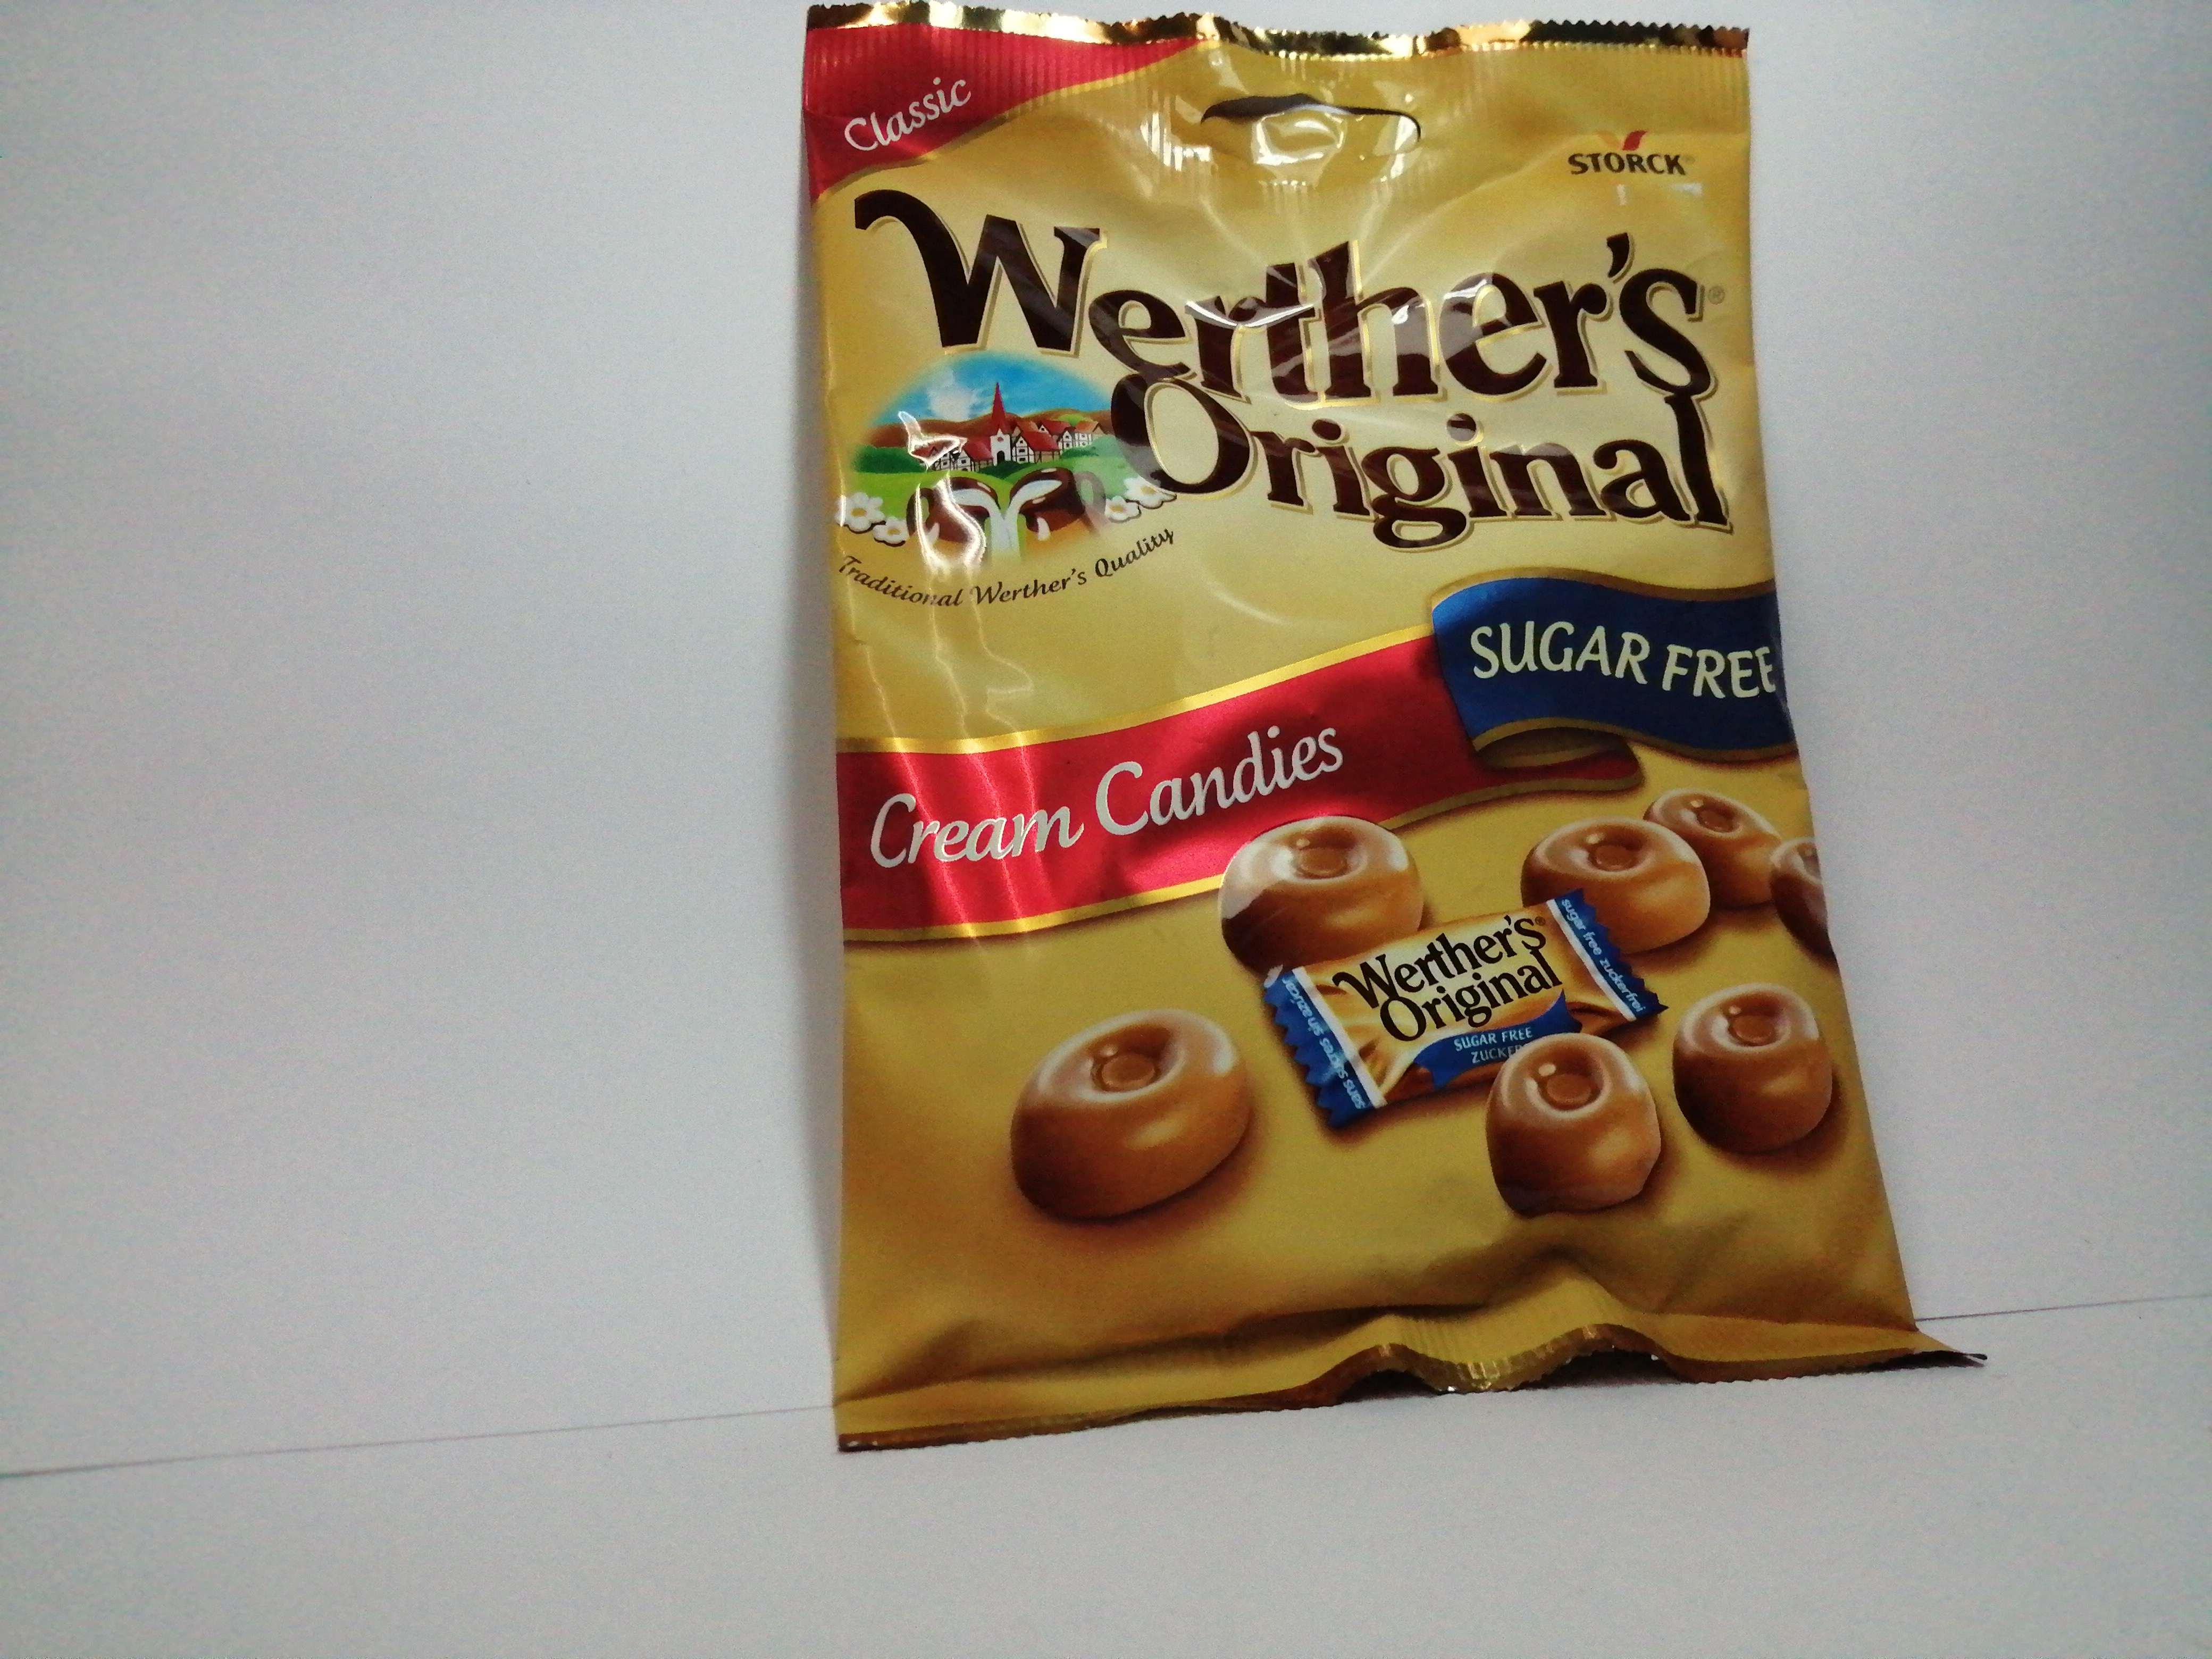dulces: (799, 0, 1986, 1431)
